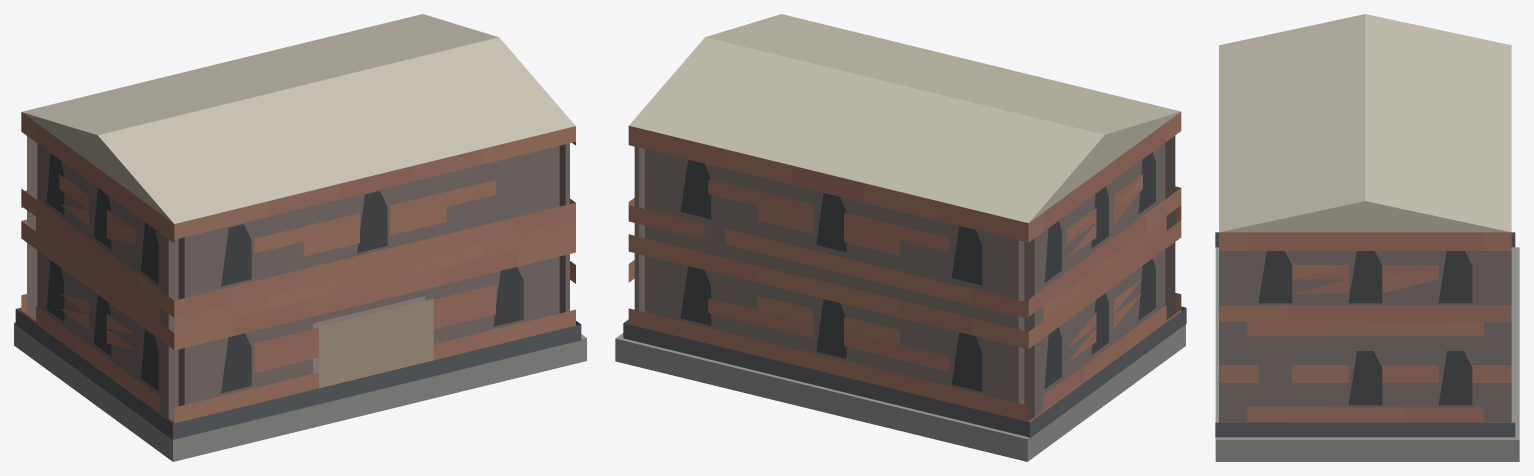
File: brick.lod.glb
The picture shows the model from 3 angles, left to right: view 1: azimuth 30°, elevation 25°; view 2: azimuth 150°, elevation 25°; view 3: azimuth 270°, elevation 25°; orthographic projection. The views are drawn at different scales.
Parts seen in each view (by area): view 1: brick; view 2: brick; view 3: brick.
Boxes of the visible parts, bbox=[...] form: brick: bbox=[14, 14, 586, 461]; brick: bbox=[615, 14, 1186, 461]; brick: bbox=[1215, 14, 1519, 461].
Bounding box in the file's own units: 19.48 × 12.07 × 12.98.
